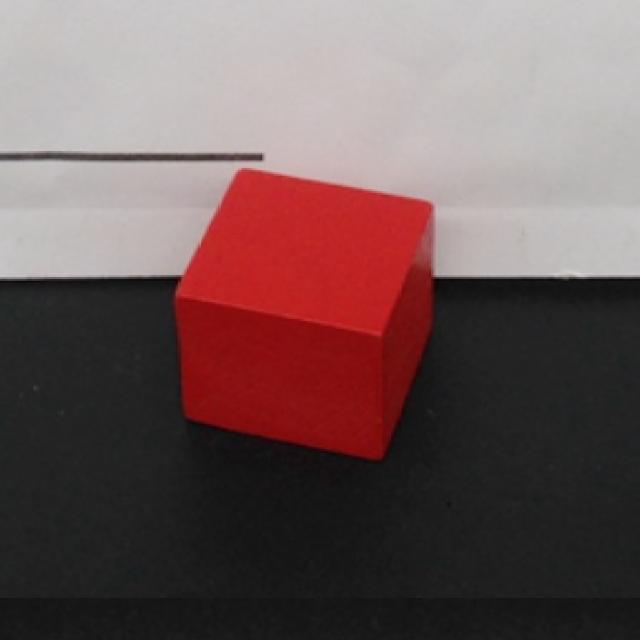red cube: (173, 168, 436, 464)
